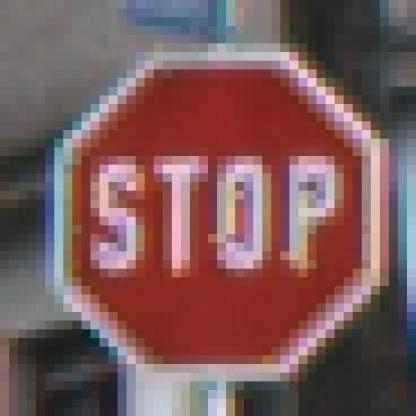stop: (44, 33, 390, 383)
